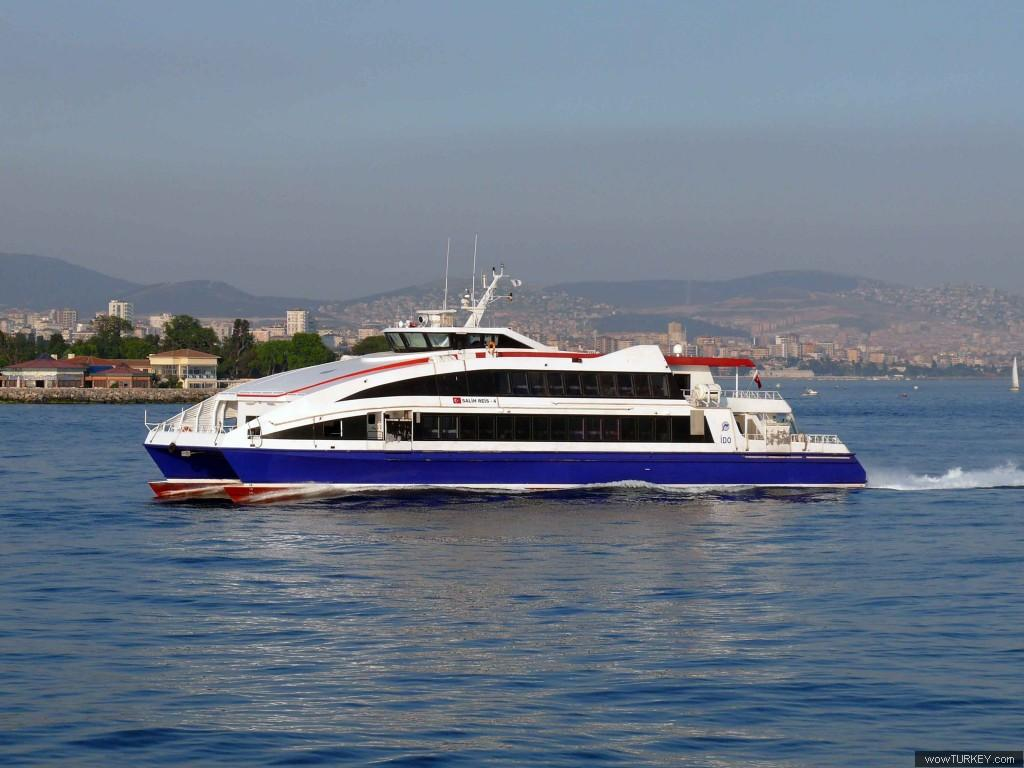PassengerShip: (134, 228, 872, 506)
